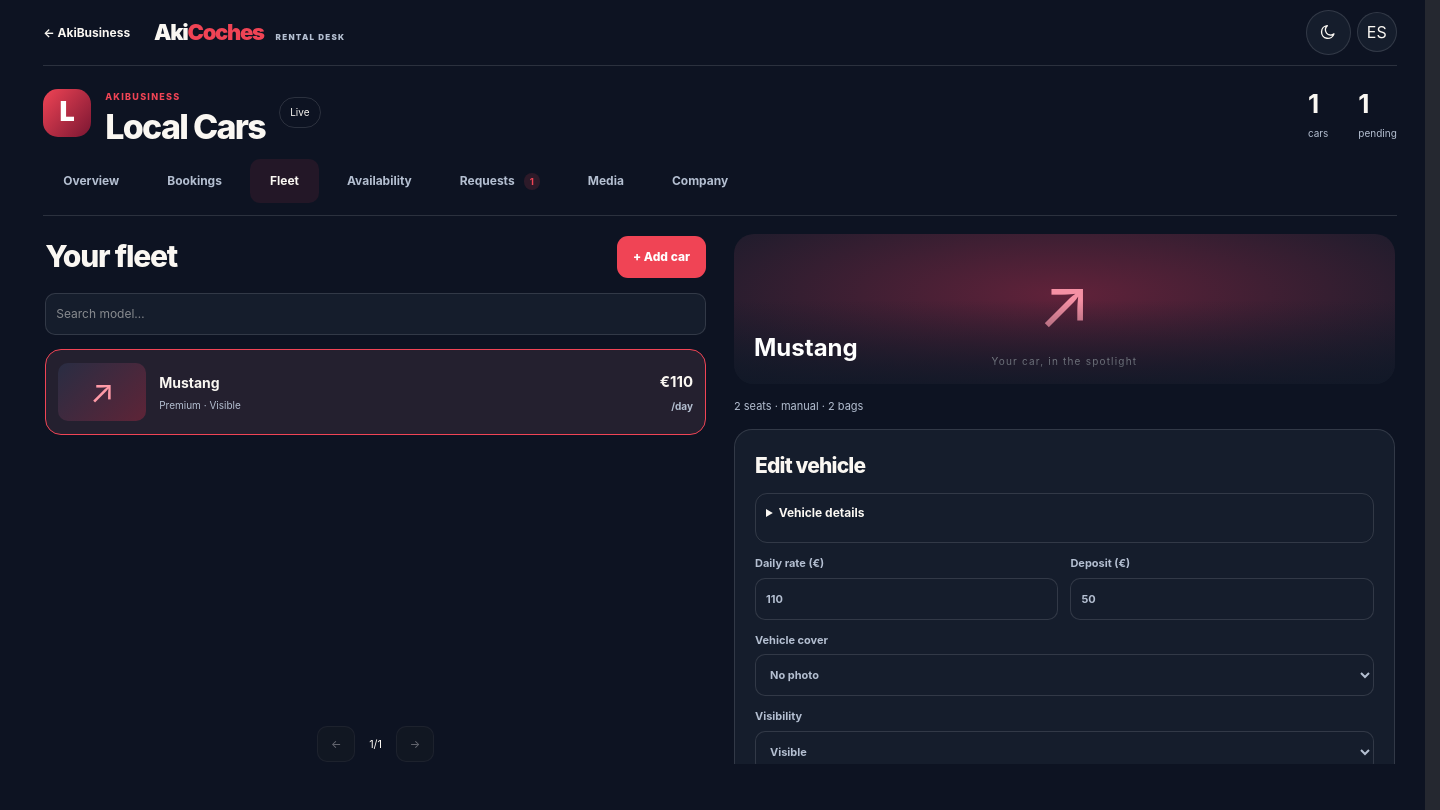
Test: rental desk › opens a dedicated add vehicle form
Click the button "+ Add car": (662, 257) x1=617 y1=236 x2=706 y2=278
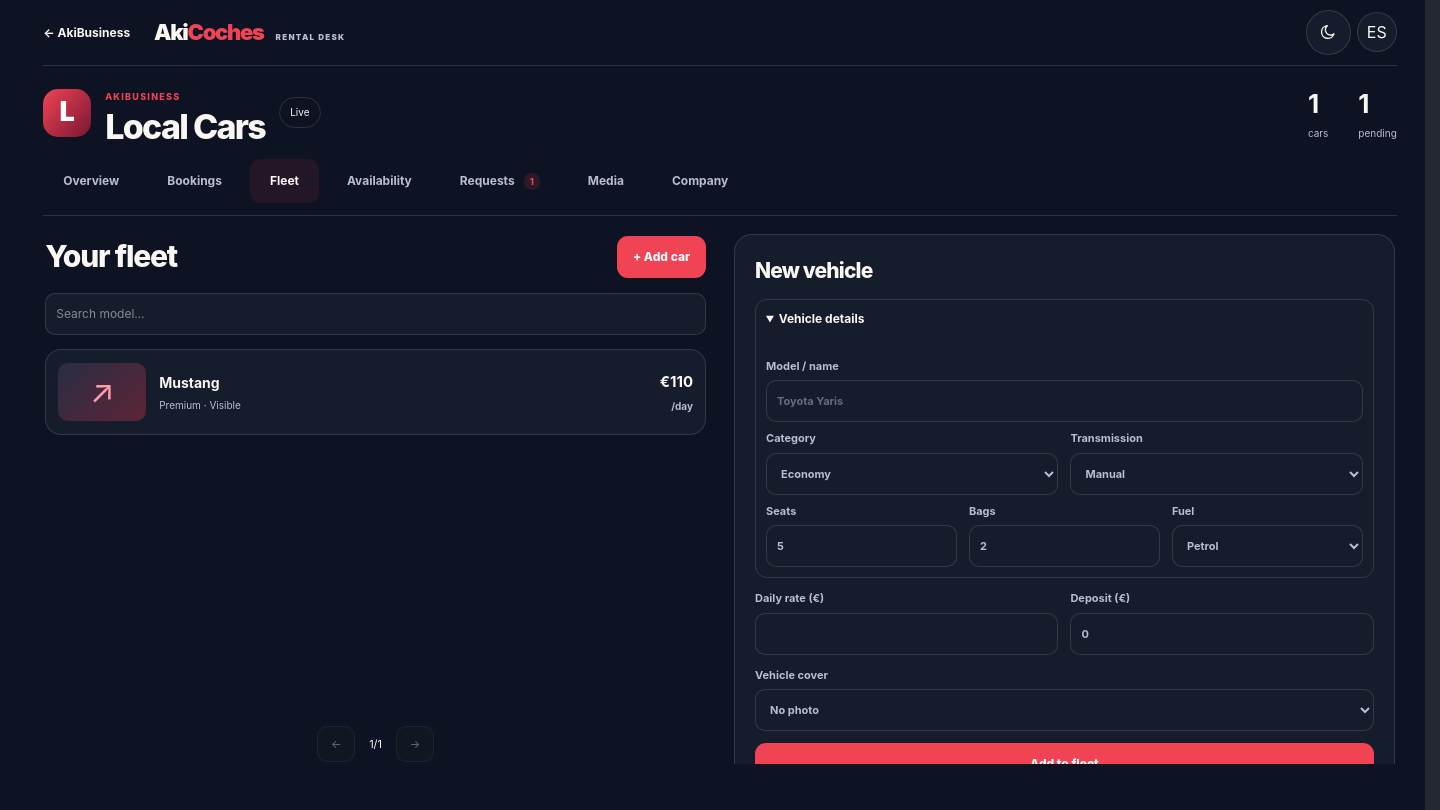
Check: the field labelled "Model / name" is shown, box x1=766 y1=380 x2=1363 y2=422
Check: the number field labelled "Seats" is shown, box x1=766 y1=525 x2=957 y2=567
